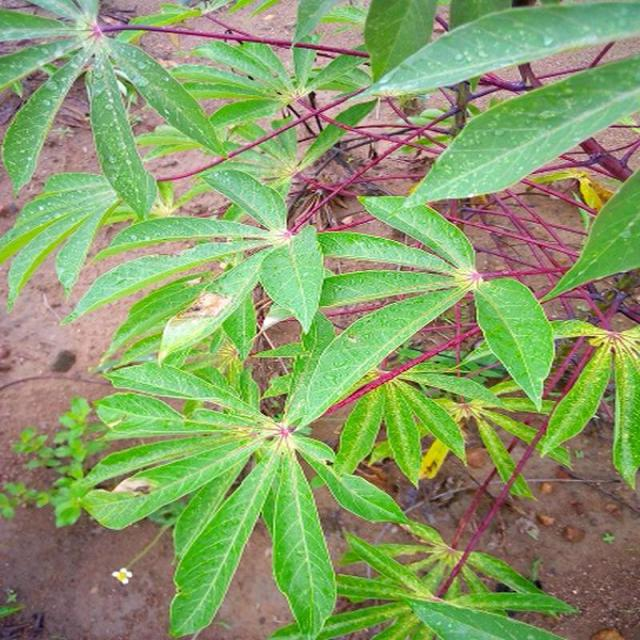cassava leaf: (2, 1, 640, 637), (405, 52, 640, 210), (474, 274, 556, 411)
